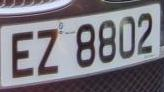0: (117, 12, 139, 62)
2: (135, 9, 155, 57)
8: (74, 18, 99, 75), (95, 15, 119, 67)
E: (8, 25, 36, 86)
Z: (33, 27, 63, 80)
